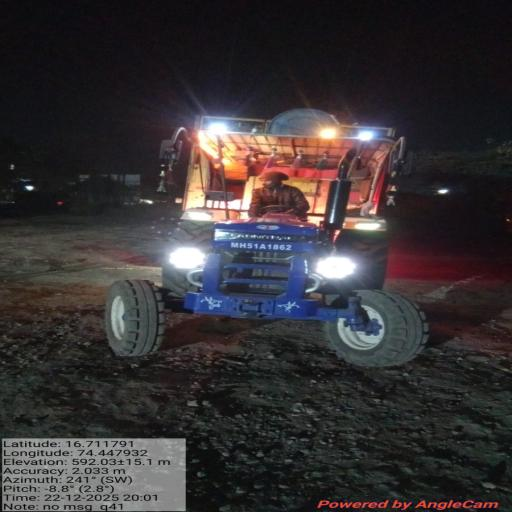number_plate: (220, 236, 320, 258)
